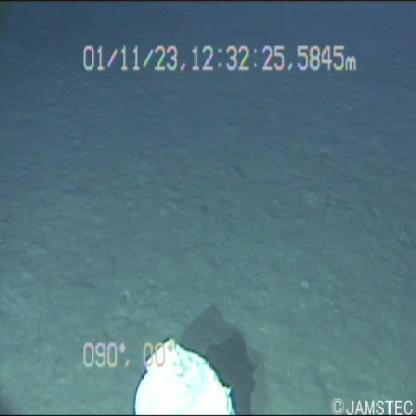Rác: (122, 336, 245, 416)
